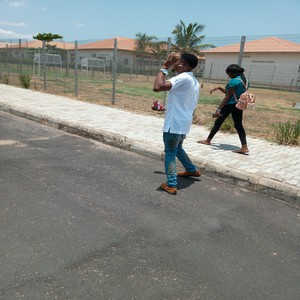Fulokoja_female_student: (211, 67, 253, 157)
Fulokoja_male_student: (155, 54, 205, 191)
